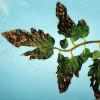Tomato Septoria leaf spot: (0, 24, 56, 65), (52, 52, 82, 94), (52, 1, 81, 44)
